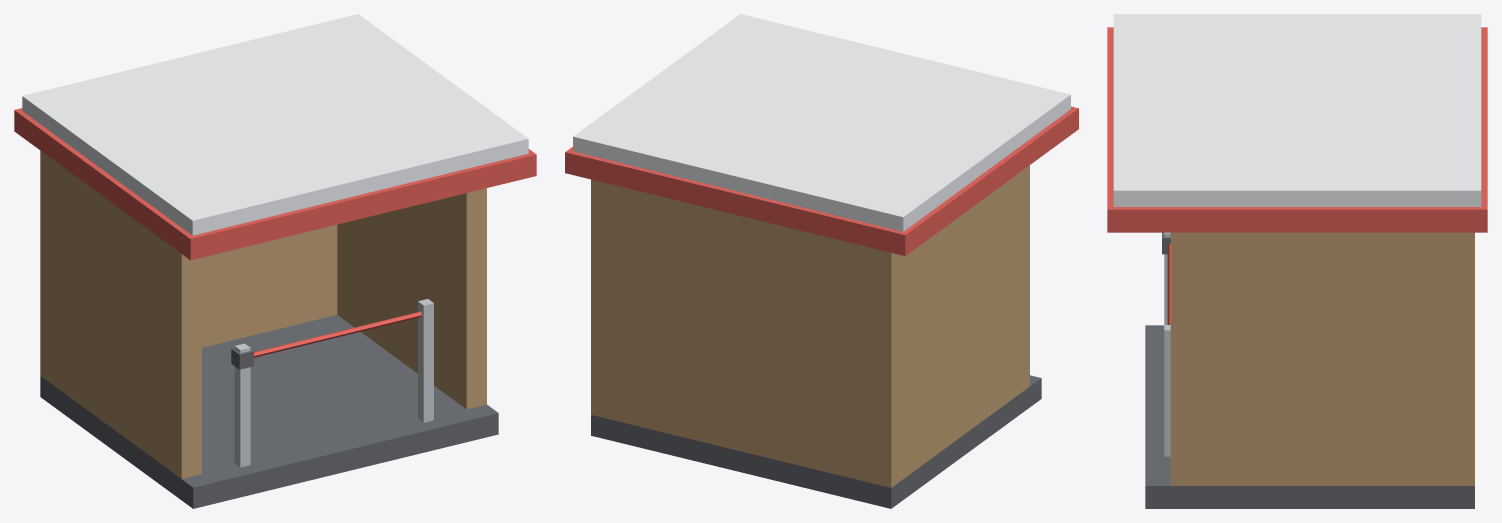
Rendered from wand-4.glb.
3 renders of one model, left to right at view 1: azimuth 30°, elevation 25°; view 2: azimuth 150°, elevation 25°; view 3: azimuth 270°, elevation 25°, orthographic. The views are drawn at different scales.
Parts seen in each view (by area): view 1: start-hut, start-wand; view 2: start-hut; view 3: start-hut.
Boxes of the visible parts, x1,y1,x2,y2 form: start-hut: [14, 14, 536, 508]; start-wand: [254, 311, 421, 357]; start-hut: [565, 14, 1078, 508]; start-hut: [1107, 14, 1487, 508].
Bounding box in the file's own units: 3.4 × 2.84 × 3.
